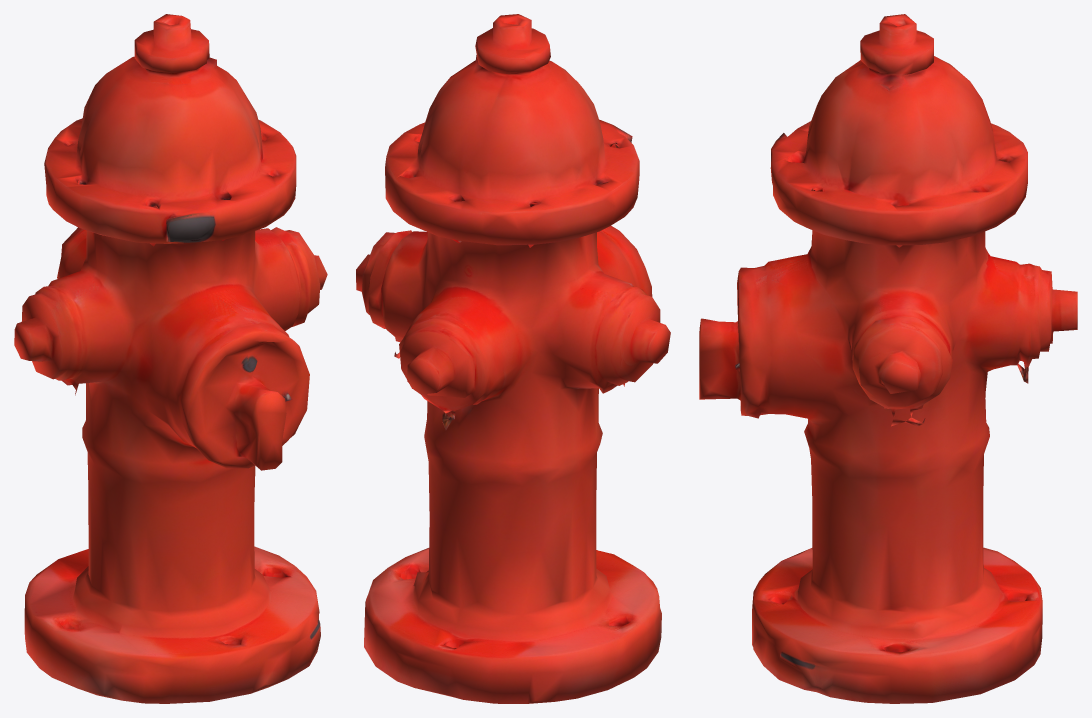
File: hydrant_nyc.glb
3 renders of one model, left to right at view 1: azimuth 30°, elevation 25°; view 2: azimuth 150°, elevation 25°; view 3: azimuth 270°, elevation 25°, orthographic.
Bounding box in the file's own units: 0.9953 × 2 × 1.1.
1 material, 1 textured.
